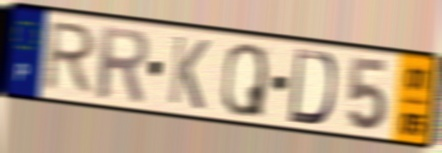5: (347, 53, 392, 132)
D: (285, 46, 338, 128)
K: (166, 33, 212, 114)
Q: (219, 40, 269, 121)
R: (40, 19, 100, 98), (95, 23, 151, 105)
